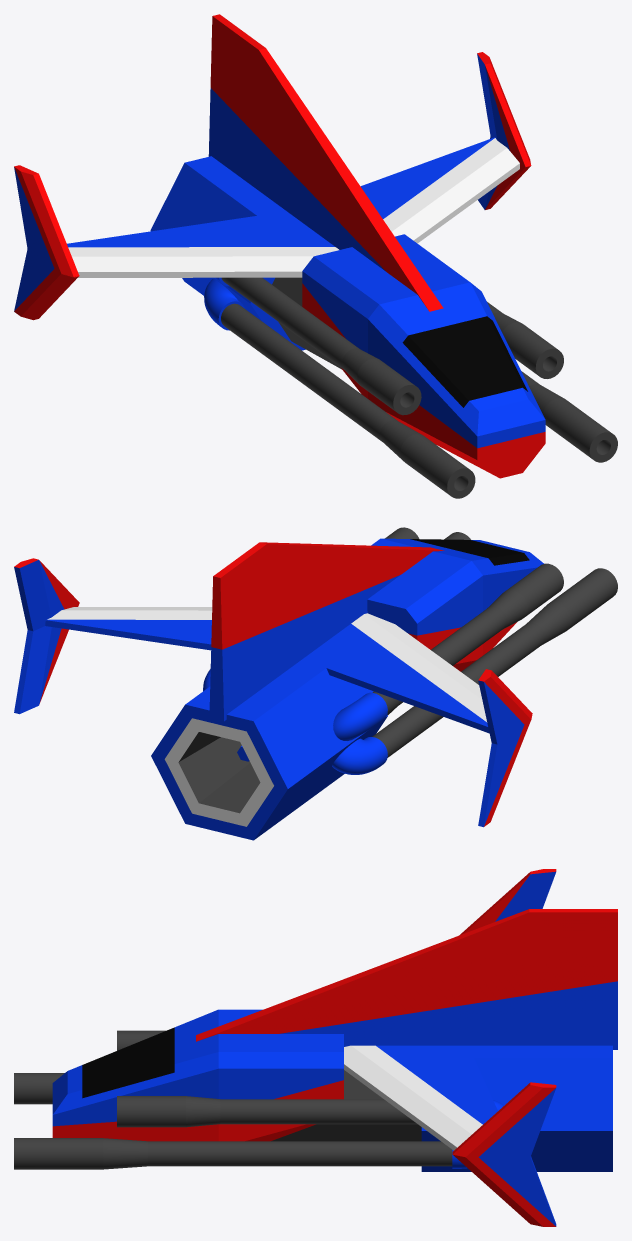
File: GammaFighter.fbx
3 views of the same model, one above another, from view 1: azimuth 30°, elevation 25°; view 2: azimuth 150°, elevation 25°; view 3: azimuth 270°, elevation 25° (orthographic). The views are drawn at different scales.
Visible parts, largest first — view 1: wing_longSlant (×6), rudder, hull_cockpitPoint, attachment_barrelEnd (×4), engine_turbine, hull_slant, pipe_smallBend; view 2: wing_longSlant (×6), engine_turbine, rudder, attachment_barrelEnd (×2), hull_slant, hull_cockpitPoint, pipe_smallBend (×2); view 3: rudder, attachment_barrelEnd (×4), wing_longSlant (×4), engine_turbine, hull_cockpitPoint, hull_slant.
Boxes of the visible parts, x1=… form: wing_longSlant (×6): x1=14, y1=52, x2=531, y2=320; rudder: x1=208, y1=14, x2=443, y2=311; hull_cockpitPoint: x1=368, y1=282, x2=545, y2=478; attachment_barrelEnd (×4): x1=221, y1=277, x2=617, y2=498; engine_turbine: x1=150, y1=156, x2=341, y2=369; hull_slant: x1=302, y1=234, x2=469, y2=398; pipe_smallBend: x1=204, y1=279, x2=245, y2=330; wing_longSlant (×6): x1=14, y1=558, x2=532, y2=827; engine_turbine: x1=151, y1=647, x2=396, y2=840; rudder: x1=209, y1=542, x2=444, y2=721; attachment_barrelEnd (×2): x1=372, y1=563, x2=617, y2=757; hull_slant: x1=367, y1=538, x2=482, y2=671; hull_cockpitPoint: x1=381, y1=538, x2=543, y2=655; pipe_smallBend (×2): x1=332, y1=692, x2=387, y2=774; rudder: x1=196, y1=909, x2=617, y2=1049; attachment_barrelEnd (×4): x1=14, y1=1030, x2=452, y2=1169; wing_longSlant (×4): x1=344, y1=869, x2=556, y2=1226; engine_turbine: x1=271, y1=1045, x2=612, y2=1171; hull_cockpitPoint: x1=52, y1=1009, x2=218, y2=1141; hull_slant: x1=218, y1=1009, x2=343, y2=1141.
Size of the model in its own units: 41.22 by 21.54 by 48.08.
